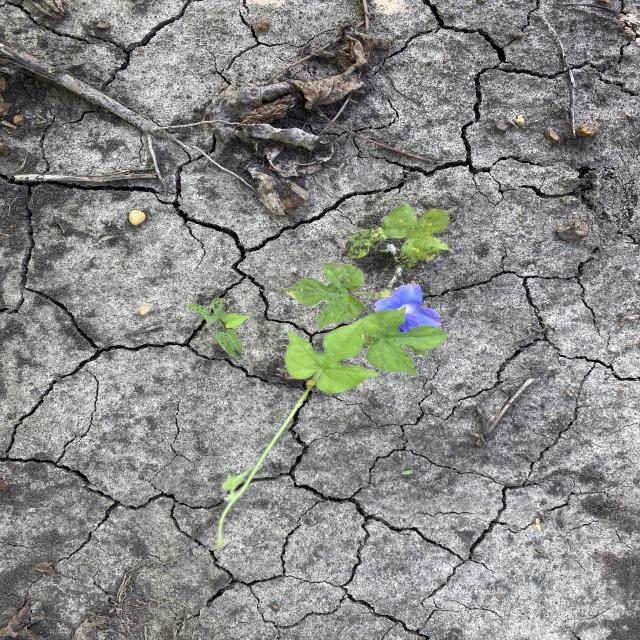MorningGlory: (282, 203, 460, 397), (186, 294, 253, 358)
